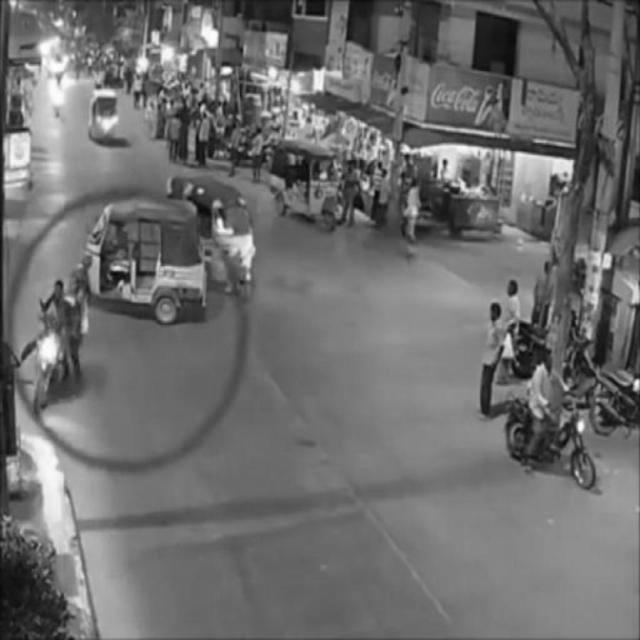person: (479, 303, 505, 423), (499, 278, 519, 388), (402, 176, 422, 256), (343, 160, 358, 231)
vehicle: (85, 202, 209, 320), (505, 351, 599, 492), (168, 178, 254, 302), (29, 263, 87, 413), (270, 143, 338, 234)
